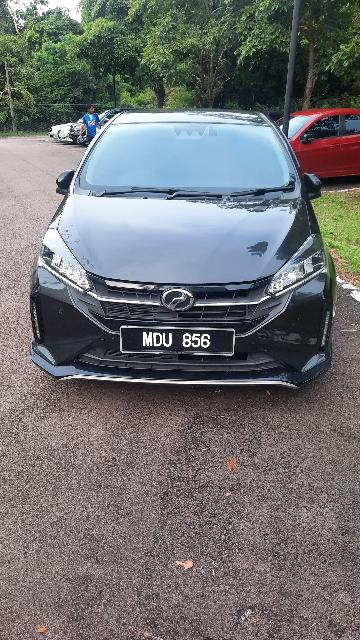License_Plate: (118, 323, 236, 359)
car: (28, 110, 340, 393)
